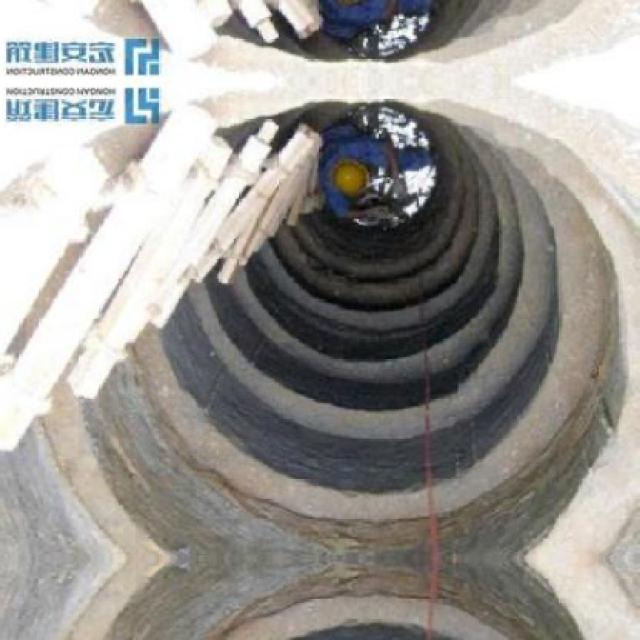con casco: (335, 167, 393, 203)
